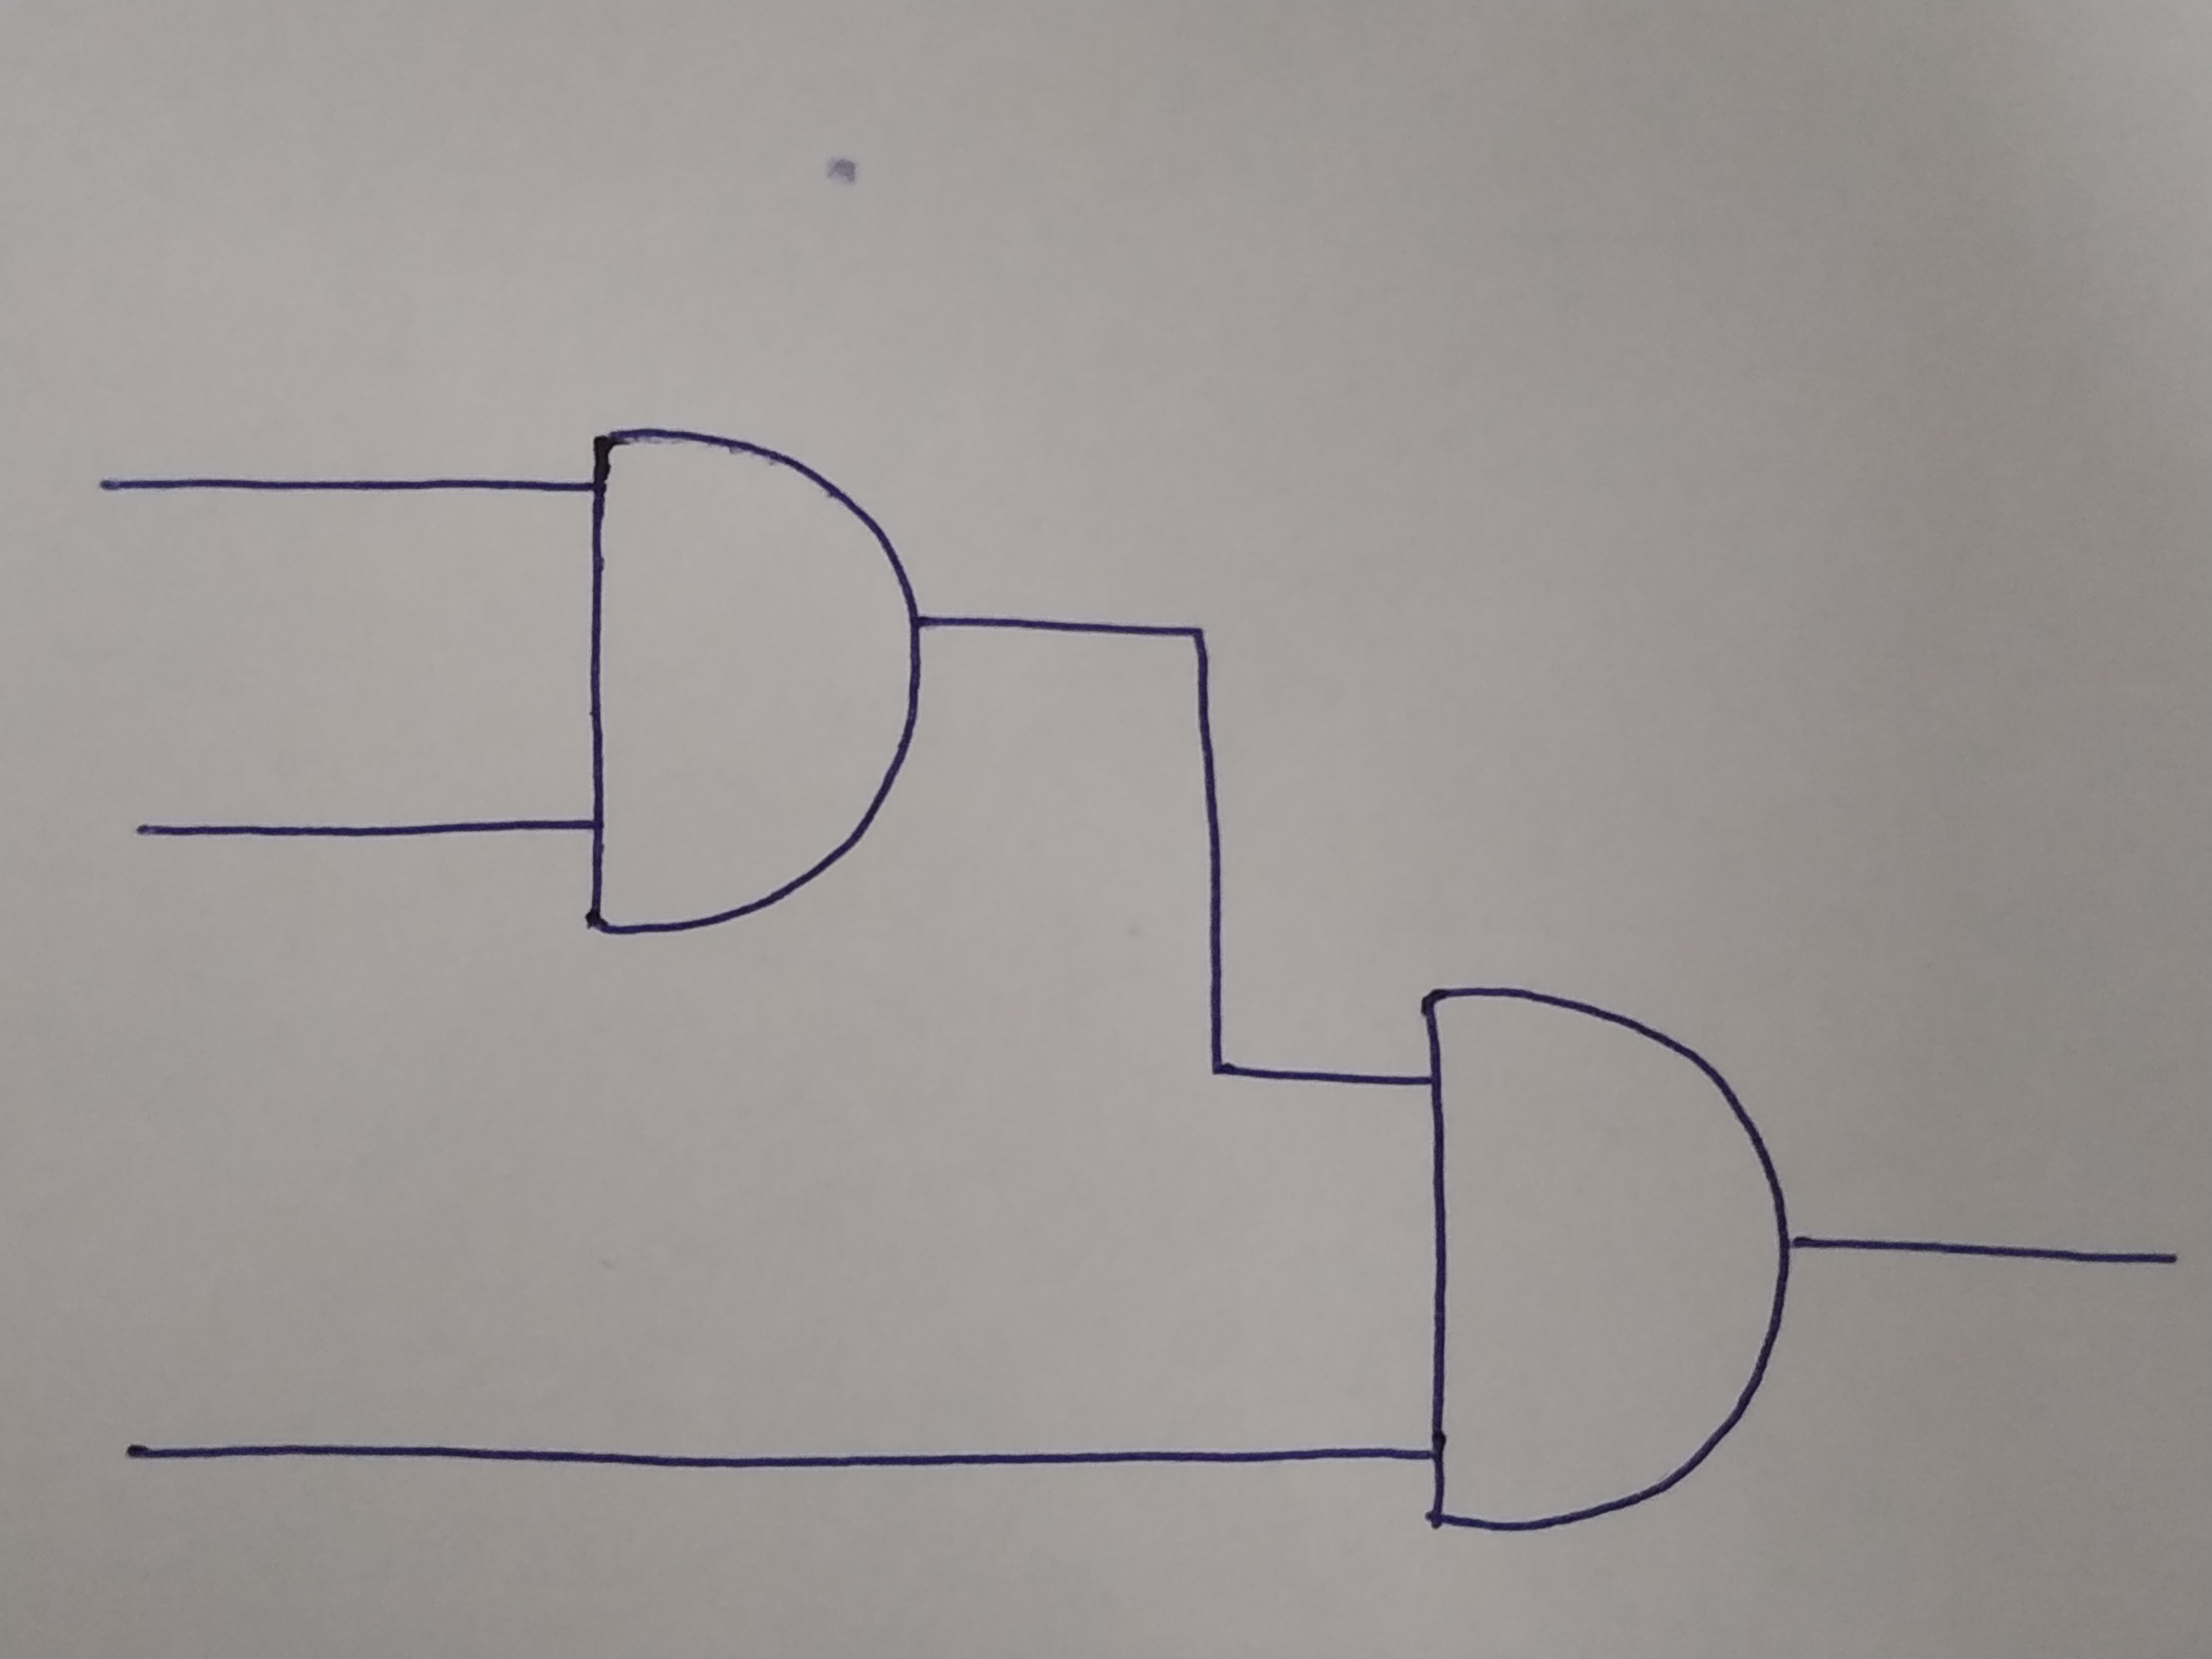and: (1425, 988, 1787, 1534), (578, 437, 916, 932)
